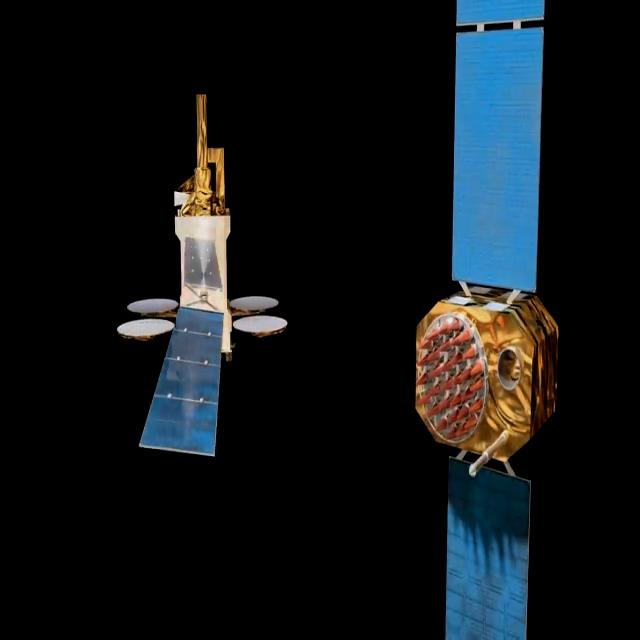medium_debris: (415, 0, 590, 640), (118, 73, 291, 467)
